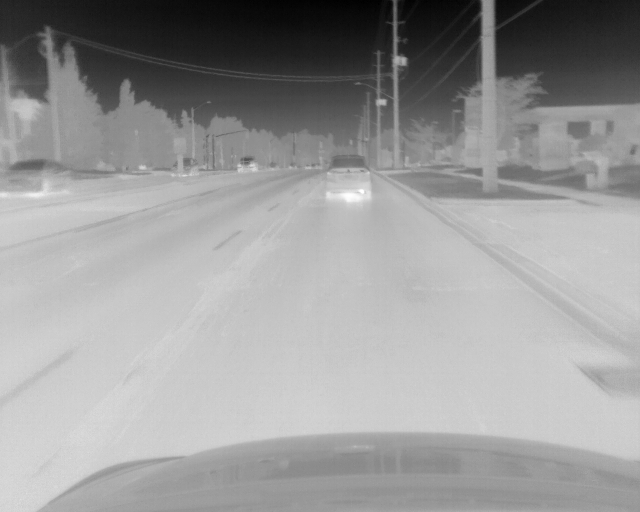car: (1, 157, 73, 196), (325, 155, 372, 200), (168, 158, 200, 177), (237, 158, 256, 171)
